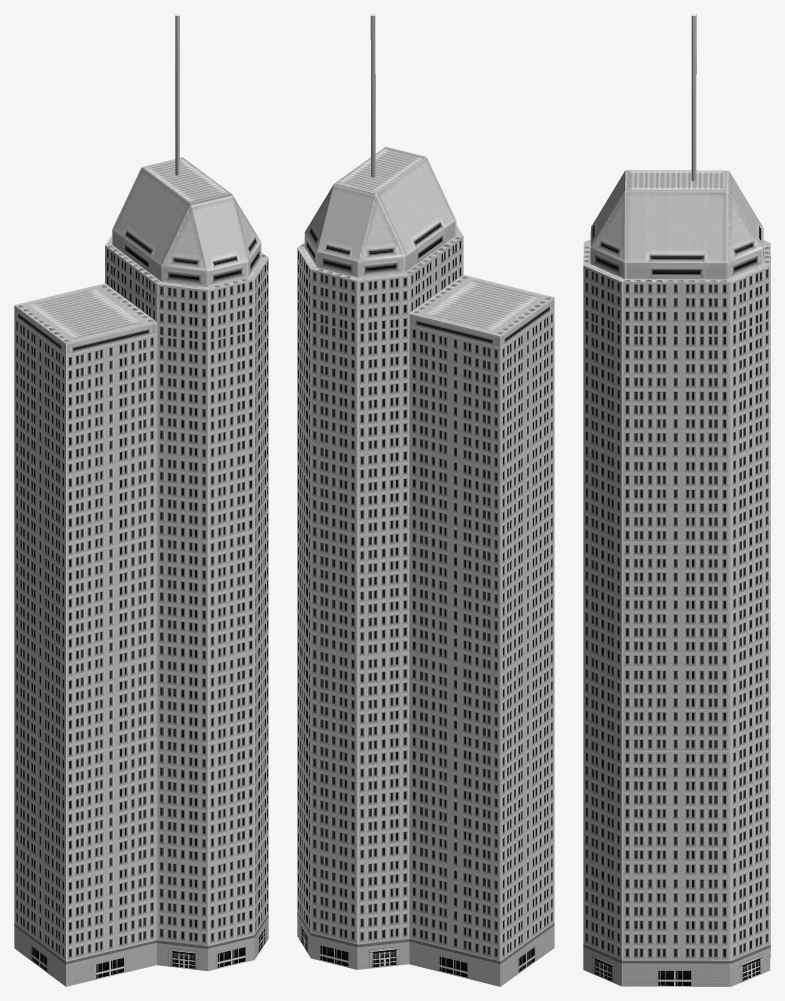
File: skyscrap15.glb
3 views of the same model, side by side, from view 1: azimuth 30°, elevation 25°; view 2: azimuth 150°, elevation 25°; view 3: azimuth 270°, elevation 25° (orthographic). The views are drawn at different scales.
Parts seen in each view (by area): view 1: sk15; view 2: sk15; view 3: sk15.
Boxes of the visible parts, left/top/right/bottom form: sk15: left=14, top=14, right=268, bottom=986; sk15: left=297, top=14, right=554, bottom=986; sk15: left=583, top=14, right=770, bottom=986.
Bounding box in the file's own units: 9 × 38.7 × 6.97.
1 material, 1 textured.
